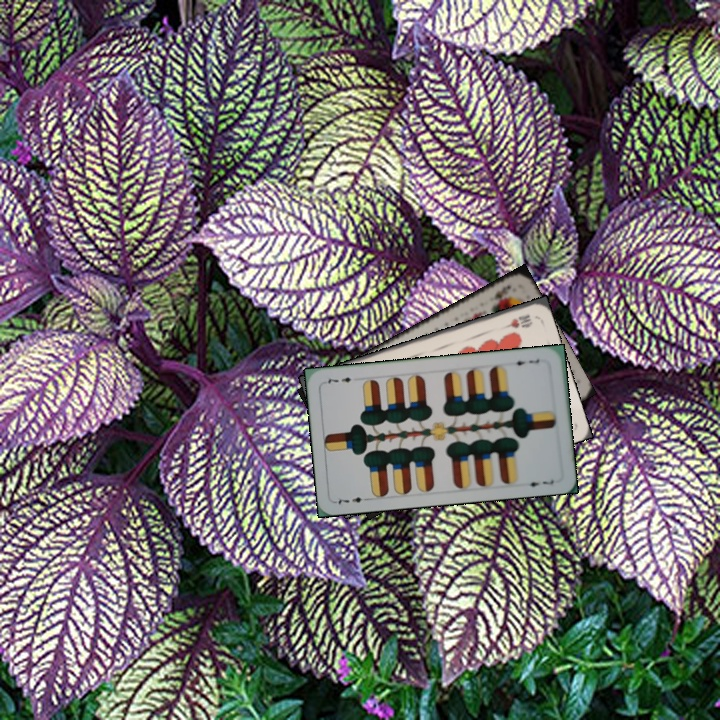E7: (332, 493, 372, 506), (508, 355, 542, 368)
H10: (497, 311, 535, 332)
SK: (490, 281, 513, 303)
